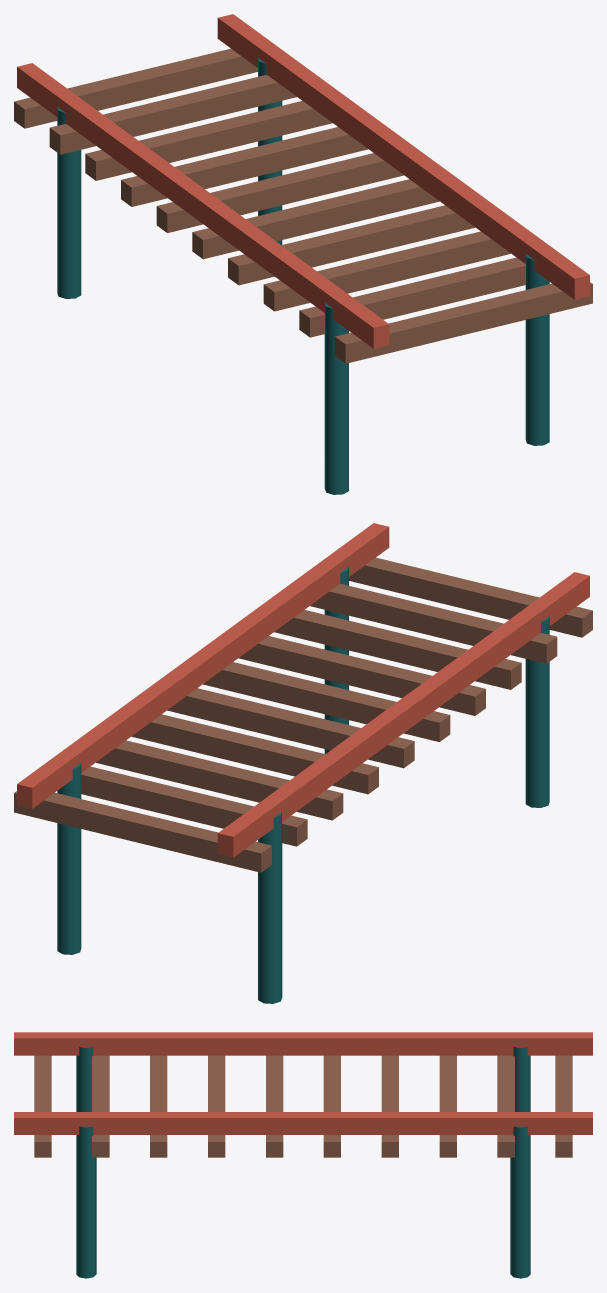
File: track_piece.glb
3 renders of one model, top to bottom at view 1: azimuth 30°, elevation 25°; view 2: azimuth 150°, elevation 25°; view 3: azimuth 270°, elevation 25°, orthographic. The views are drawn at different scales.
Parts seen in each view (by area): view 1: track_piece; view 2: track_piece; view 3: track_piece.
Part boxes in pixels (x1=…): track_piece: x1=14, y1=14, x2=592, y2=494; track_piece: x1=14, y1=523, x2=592, y2=1003; track_piece: x1=14, y1=1032, x2=592, y2=1278.
Bounding box in the file's own units: 1.6 × 1.22 × 4.
